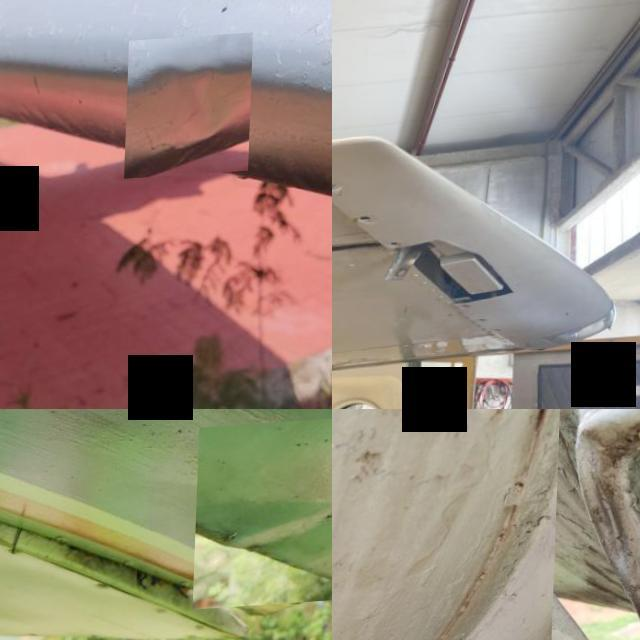Dent: (196, 414, 332, 613), (553, 409, 640, 640), (125, 39, 254, 183)
Missing_Fastener: (359, 218, 380, 230), (332, 184, 344, 201), (387, 244, 405, 255), (492, 334, 507, 339), (480, 324, 491, 330), (462, 311, 476, 315)
